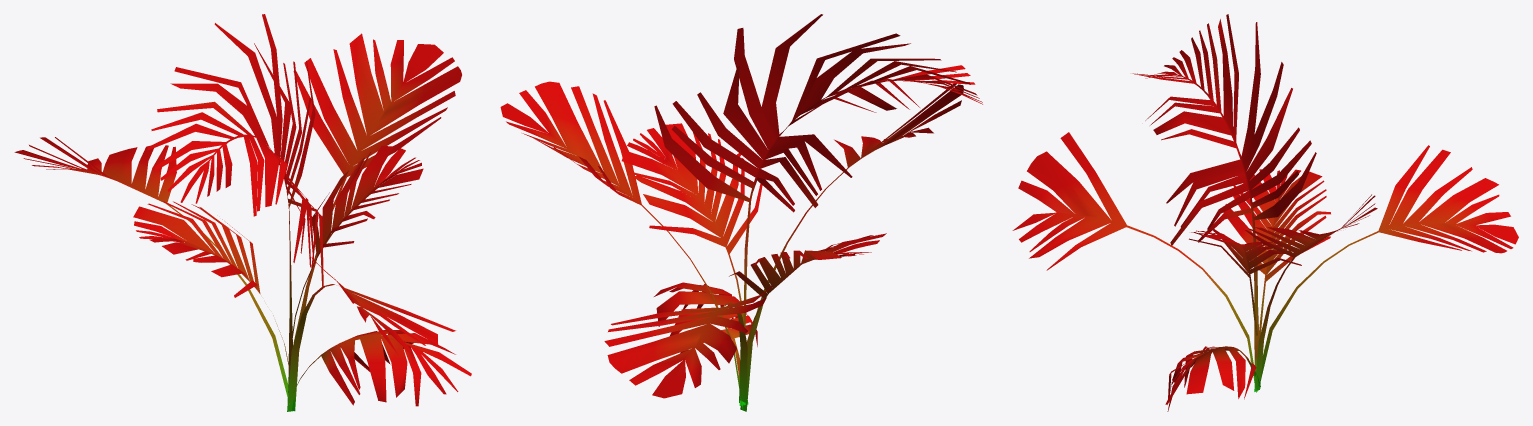
Rendered from Areca Palm_LOD1_Var3_shFjC.fbx.
3 renders of one model, left to right at view 1: azimuth 30°, elevation 25°; view 2: azimuth 150°, elevation 25°; view 3: azimuth 270°, elevation 25°, orthographic. The views are drawn at different scales.
Visible parts, largest first — view 1: _4c3e_Var3_LOD1; view 2: _4c3e_Var3_LOD1; view 3: _4c3e_Var3_LOD1.
Boxes of the visible parts, box(x1,y1,x2,y2) form: _4c3e_Var3_LOD1: box(14, 14, 471, 411); _4c3e_Var3_LOD1: box(500, 14, 982, 411); _4c3e_Var3_LOD1: box(1012, 14, 1518, 411).
Bounding box in the file's own units: 183 × 190 × 258.
